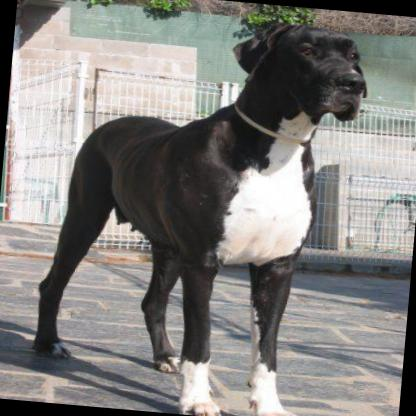Great_Dane: (26, 6, 373, 416)
